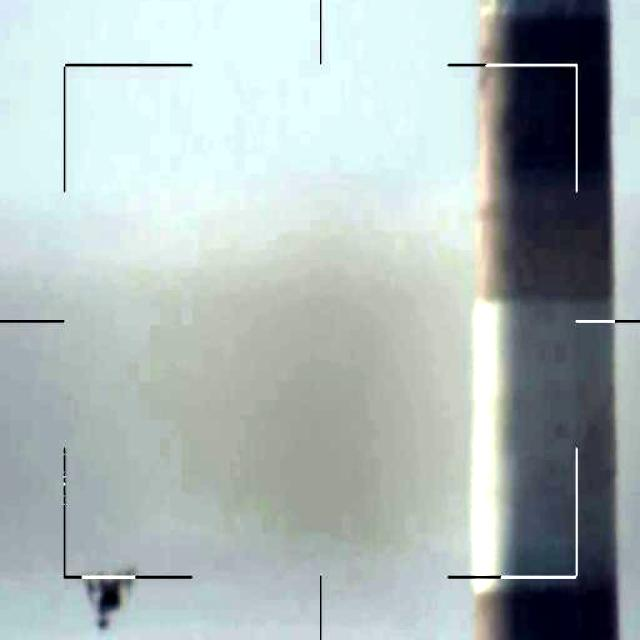bird: (76, 560, 145, 629)
